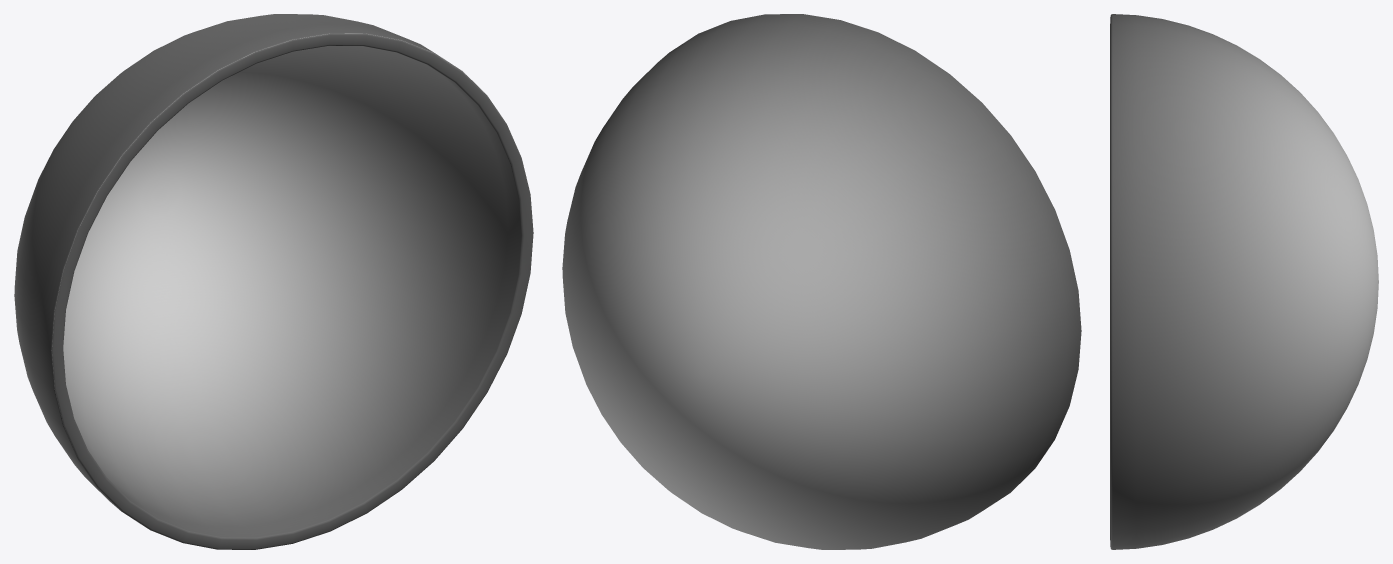
File: symbol_xiyu.fbx
The picture shows the model from 3 angles, left to right: view 1: azimuth 30°, elevation 25°; view 2: azimuth 150°, elevation 25°; view 3: azimuth 270°, elevation 25°; orthographic projection. The views are drawn at different scales.
Parts seen in each view (by area): view 1: icon_semicircle_1; view 2: icon_semicircle_1; view 3: icon_semicircle_1.
Boxes of the visible parts, left/top/right/bottom form: icon_semicircle_1: left=14, top=14, right=533, bottom=549; icon_semicircle_1: left=562, top=14, right=1081, bottom=549; icon_semicircle_1: left=1110, top=14, right=1378, bottom=549.
Bounding box in the file's own units: 199 × 199 × 99.91.
1 material, 1 textured.
